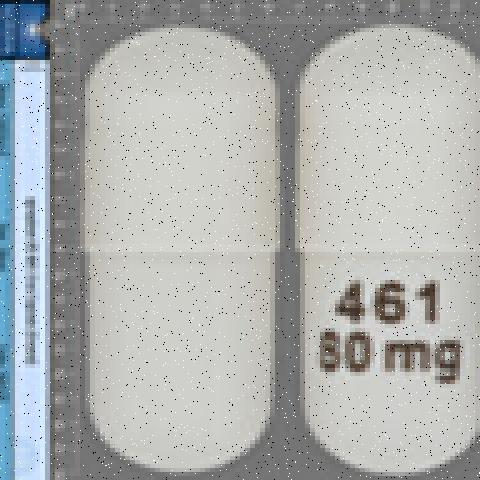Pill: (45, 12, 289, 480), (285, 8, 480, 480)
